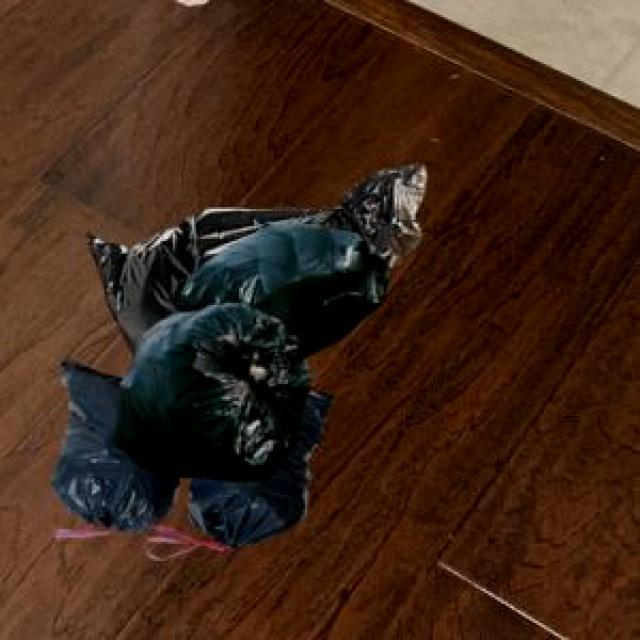Trashbag: (130, 320, 299, 458), (195, 221, 376, 335), (46, 360, 152, 531), (193, 453, 312, 544)
